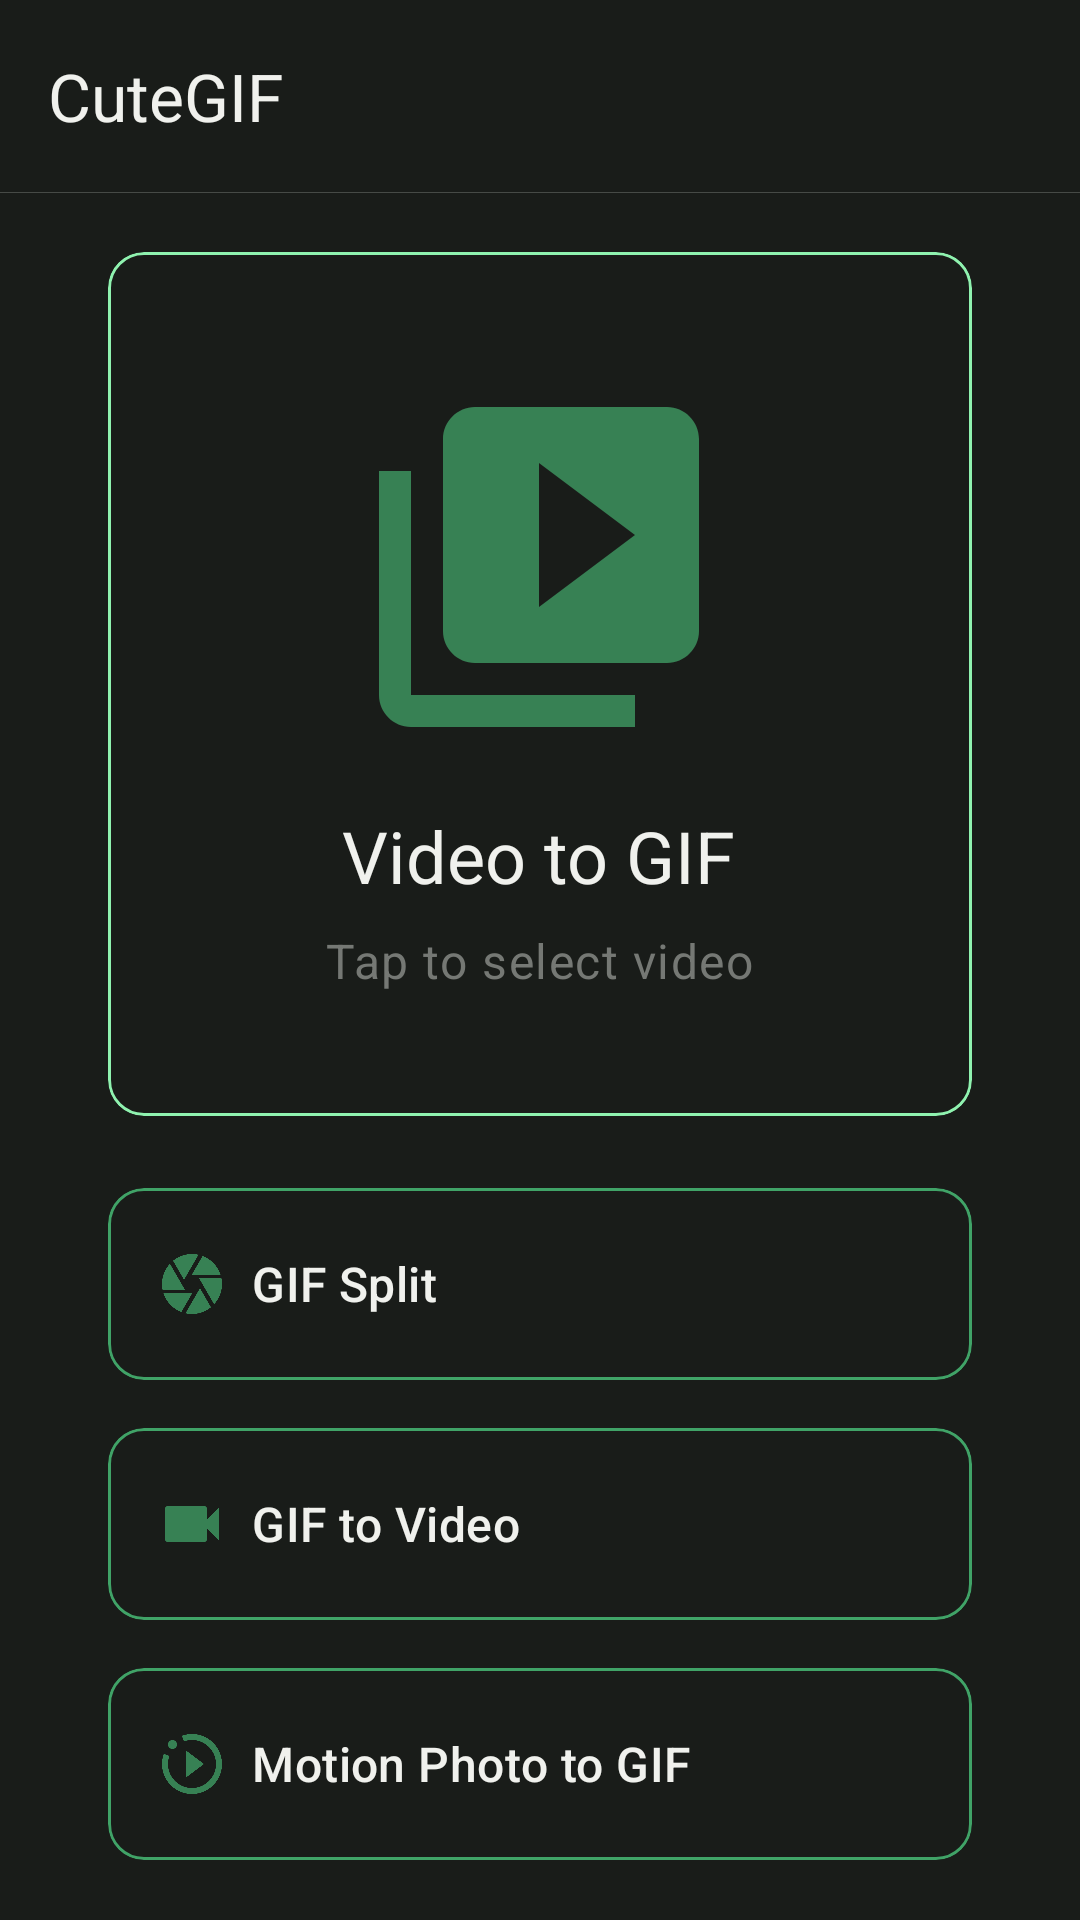

Icon bounding boxes for this 1080 × 1920 phone screenshot, format box=[x1, y1, x2, y2]:
camera: box=[162, 1254, 222, 1314]
motion photos on: box=[162, 1734, 222, 1794]
video library: box=[379, 407, 699, 727]
videocam: box=[165, 1506, 219, 1542]
